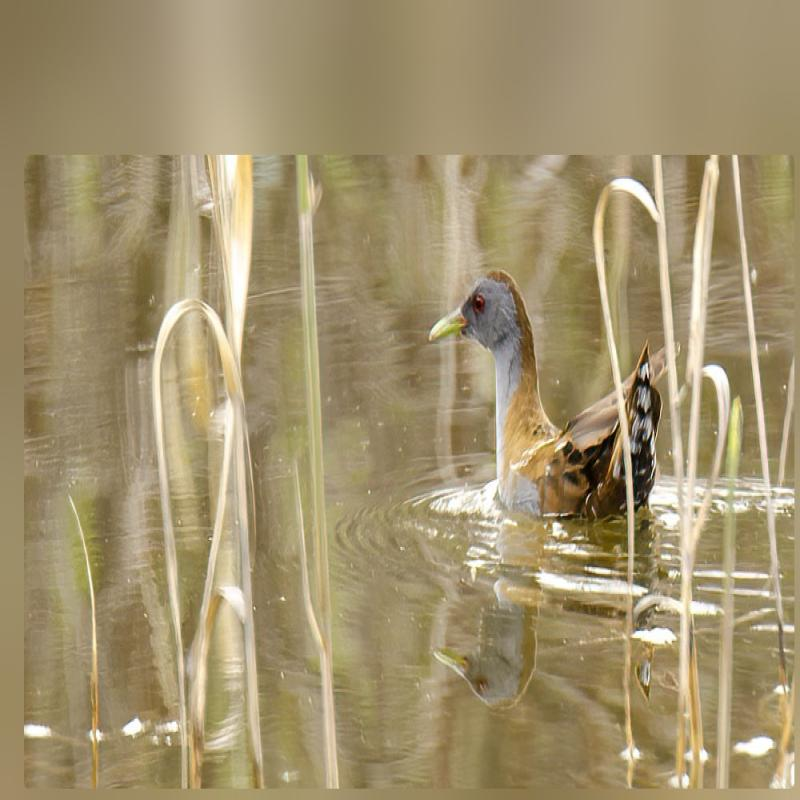little crake: (424, 261, 671, 535)
